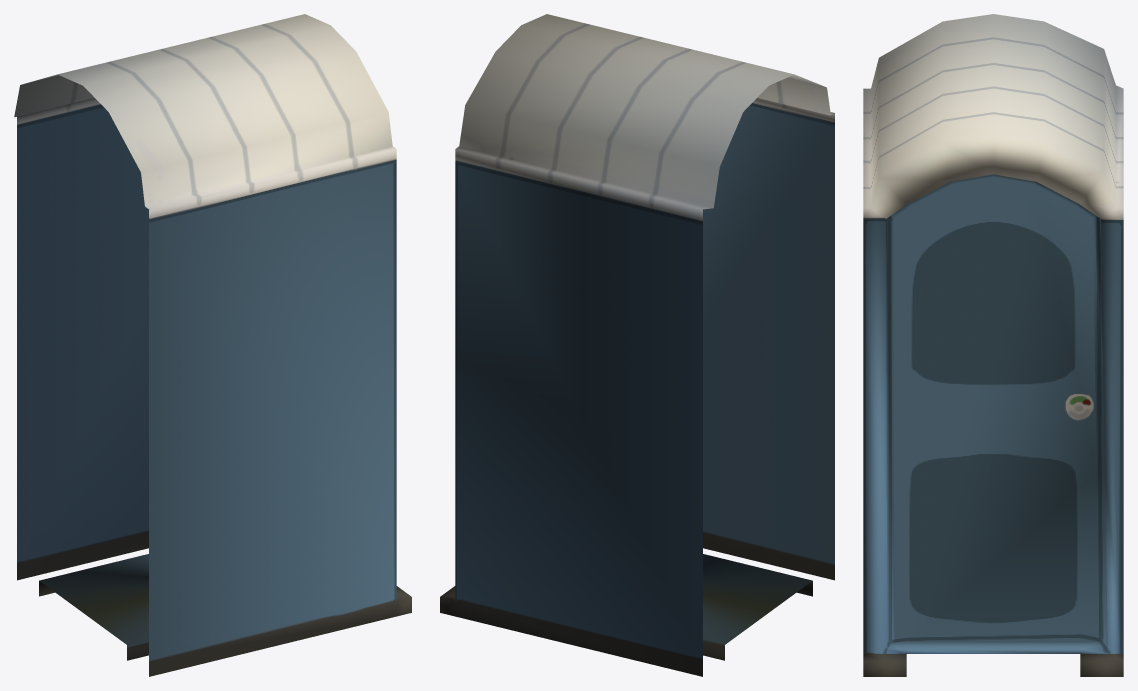
Rendered from BanoT.fbx.
The picture shows the model from 3 angles, left to right: view 1: azimuth 30°, elevation 25°; view 2: azimuth 150°, elevation 25°; view 3: azimuth 270°, elevation 25°; orthographic projection.
Parts seen in each view (by area): view 1: baño uv; view 2: baño uv; view 3: baño uv.
Part boxes in pixels (x1,y1,x2,y2): baño uv: (14, 14, 411, 676); baño uv: (440, 14, 834, 676); baño uv: (863, 14, 1123, 676).
Bounding box in the file's own units: 32.97 × 63.42 × 27.92.
1 material, 1 textured.
